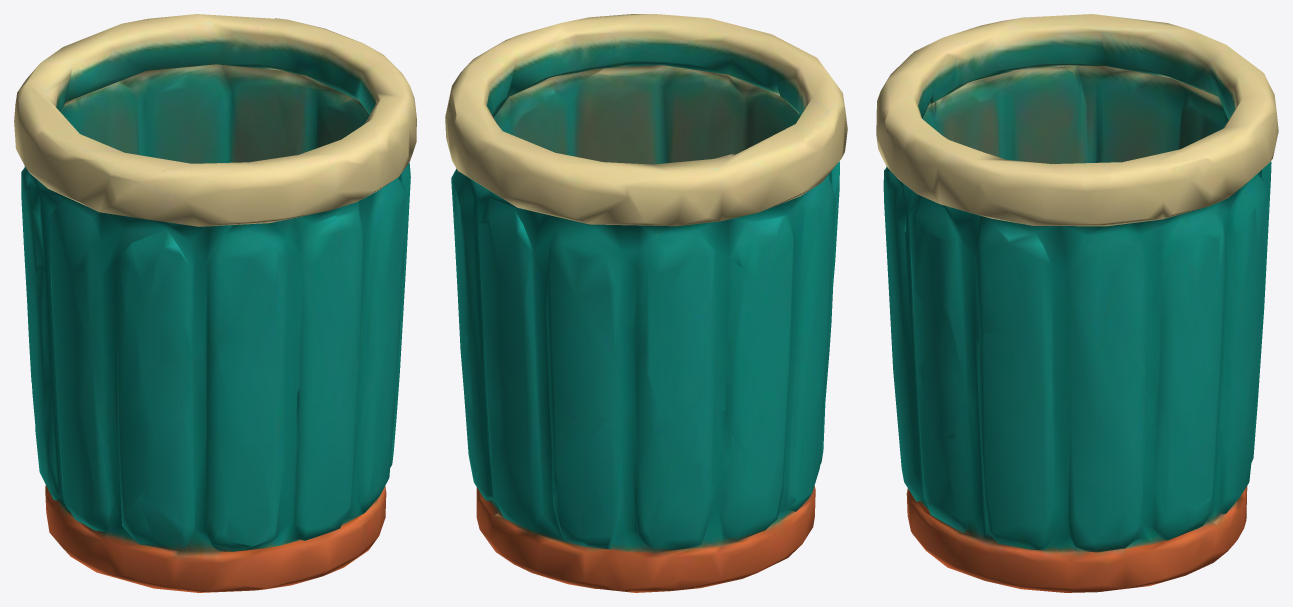
File: city-street-bin.glb
The picture shows the model from 3 angles, left to right: view 1: azimuth 30°, elevation 25°; view 2: azimuth 150°, elevation 25°; view 3: azimuth 270°, elevation 25°; orthographic projection.
Parts seen in each view (by area): view 1: city-street-bin; view 2: city-street-bin; view 3: city-street-bin.
Boxes of the visible parts, left/top/right/bottom form: city-street-bin: left=14, top=14, right=416, bottom=592; city-street-bin: left=445, top=14, right=847, bottom=592; city-street-bin: left=876, top=14, right=1278, bottom=592.
Size of the model in its own units: 0.76 by 0.9 by 0.76.
Materials: 1 (1 with a texture image).
